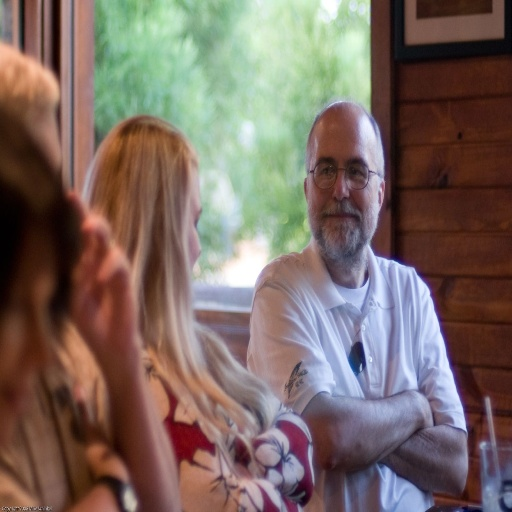hand: (65, 190, 136, 381), (72, 375, 134, 486)
